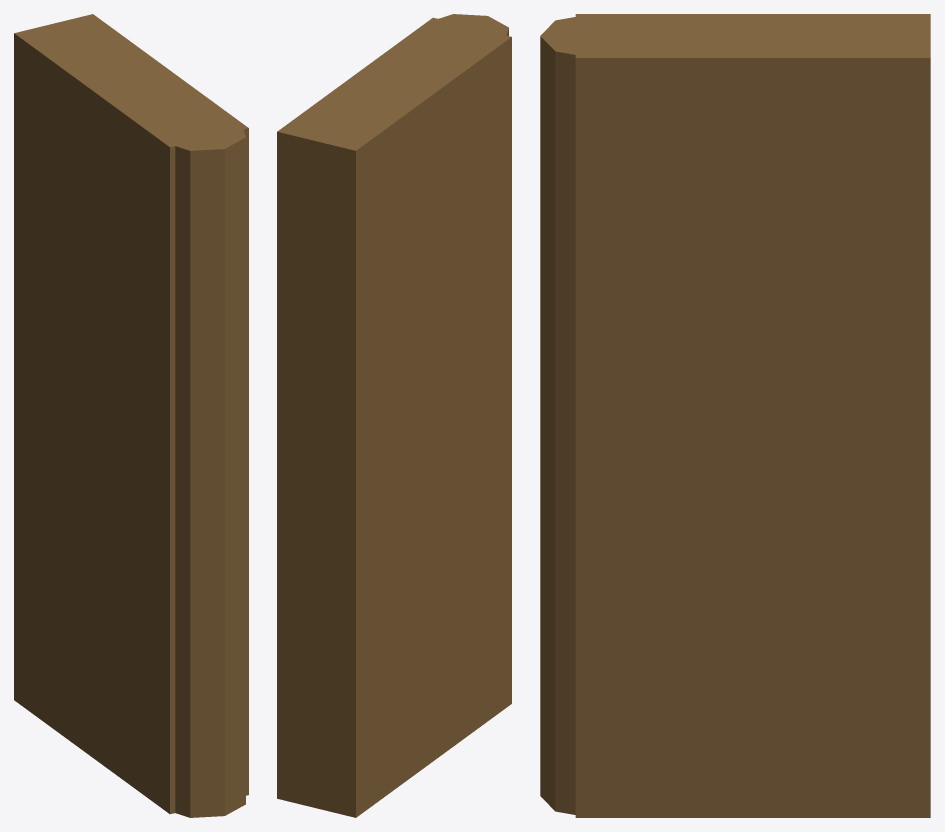
File: rudder_pivot.glb
3 views of the same model, side by side, from view 1: azimuth 30°, elevation 25°; view 2: azimuth 150°, elevation 25°; view 3: azimuth 270°, elevation 25° (orthographic). The views are drawn at different scales.
Parts seen in each view (by area): view 1: rudder, rudder_hinge; view 2: rudder, rudder_hinge; view 3: rudder, rudder_hinge.
Boxes of the visible parts, x1,y1,x2,y2 form: rudder: (14, 14, 248, 814); rudder_hinge: (158, 114, 245, 817); rudder: (277, 17, 511, 817); rudder_hinge: (421, 14, 508, 50); rudder: (575, 14, 930, 817); rudder_hinge: (540, 14, 643, 814).
Size of the model in its own units: 0.11 by 0.8893 by 0.414.
